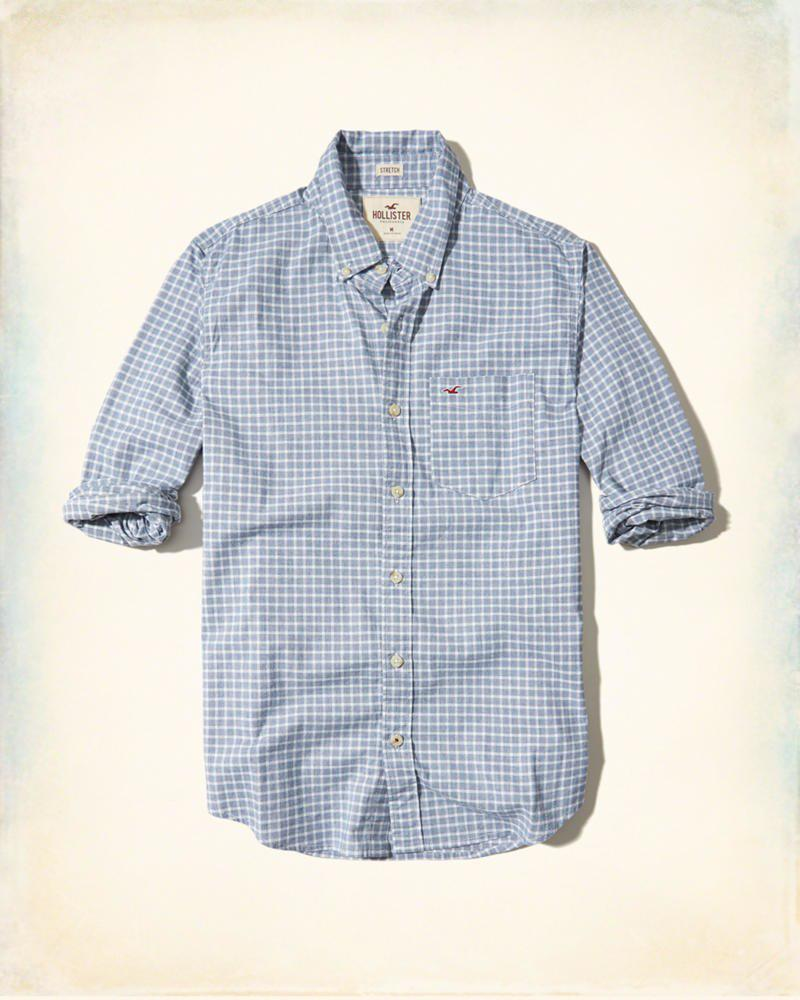teeshirt: (56, 122, 726, 887)
